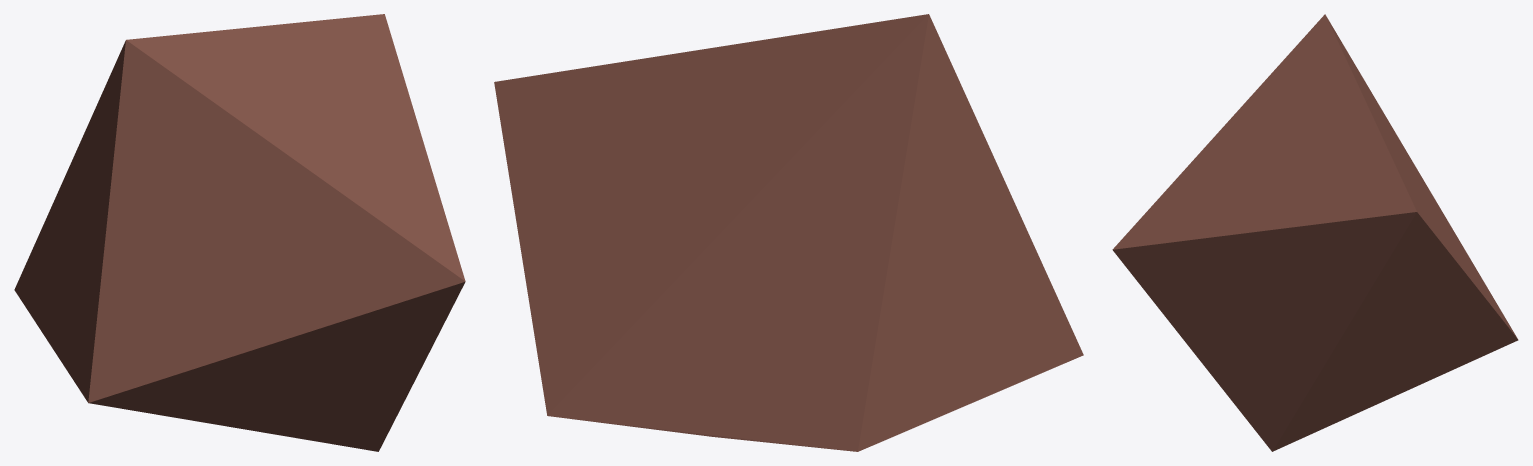
File: Rock6.fbx
The picture shows the model from 3 angles, left to right: view 1: azimuth 30°, elevation 25°; view 2: azimuth 150°, elevation 25°; view 3: azimuth 270°, elevation 25°; orthographic projection. The views are drawn at different scales.
Visible parts, largest first — view 1: Rock6; view 2: Rock6; view 3: Rock6.
Part boxes in pixels (x1=…): Rock6: x1=14, y1=14, x2=465, y2=451; Rock6: x1=494, y1=14, x2=1083, y2=451; Rock6: x1=1112, y1=14, x2=1518, y2=451.
Bounding box in the file's own units: 0.3352 × 0.3519 × 0.3677.
